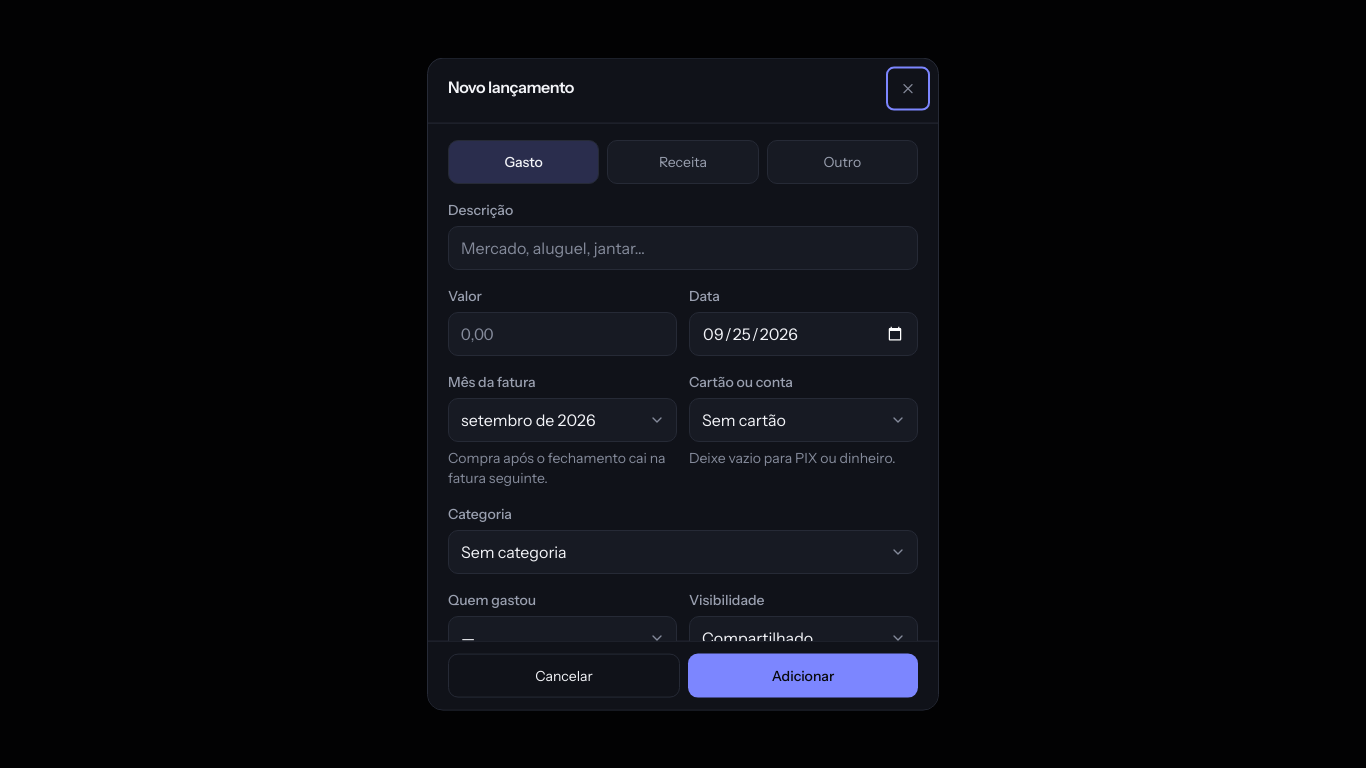
Test: formulário › palpite do Jev espera o toque em Usar
In the field labelled "Descrição": (683, 248) [448,226,918,270], type "Corrida pro aeroporto"
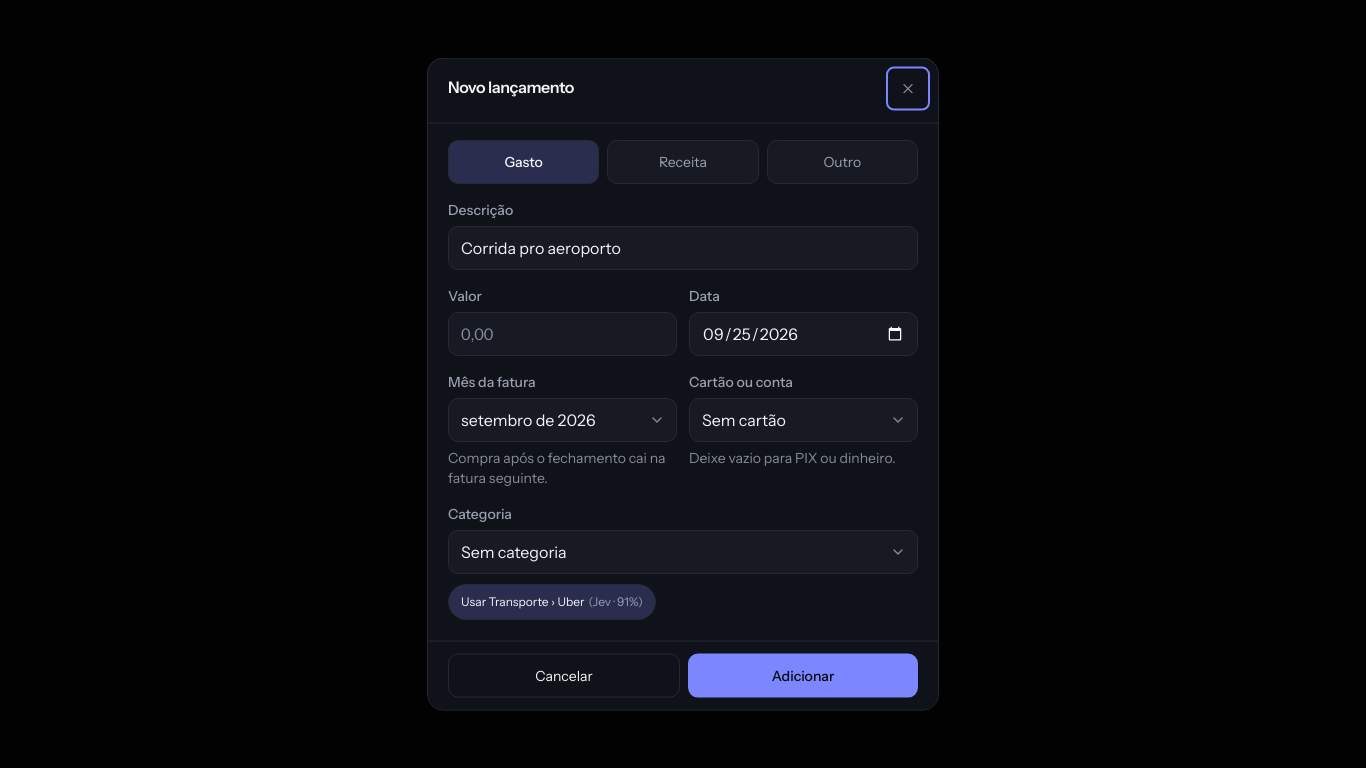
Expected: the dropdown labelled "Categoria" shows "Sem categoria", [448,530,918,574]
Click the button "Usar Transporte › Uber (Jev · 91%)": (552, 602) [448,584,656,620]
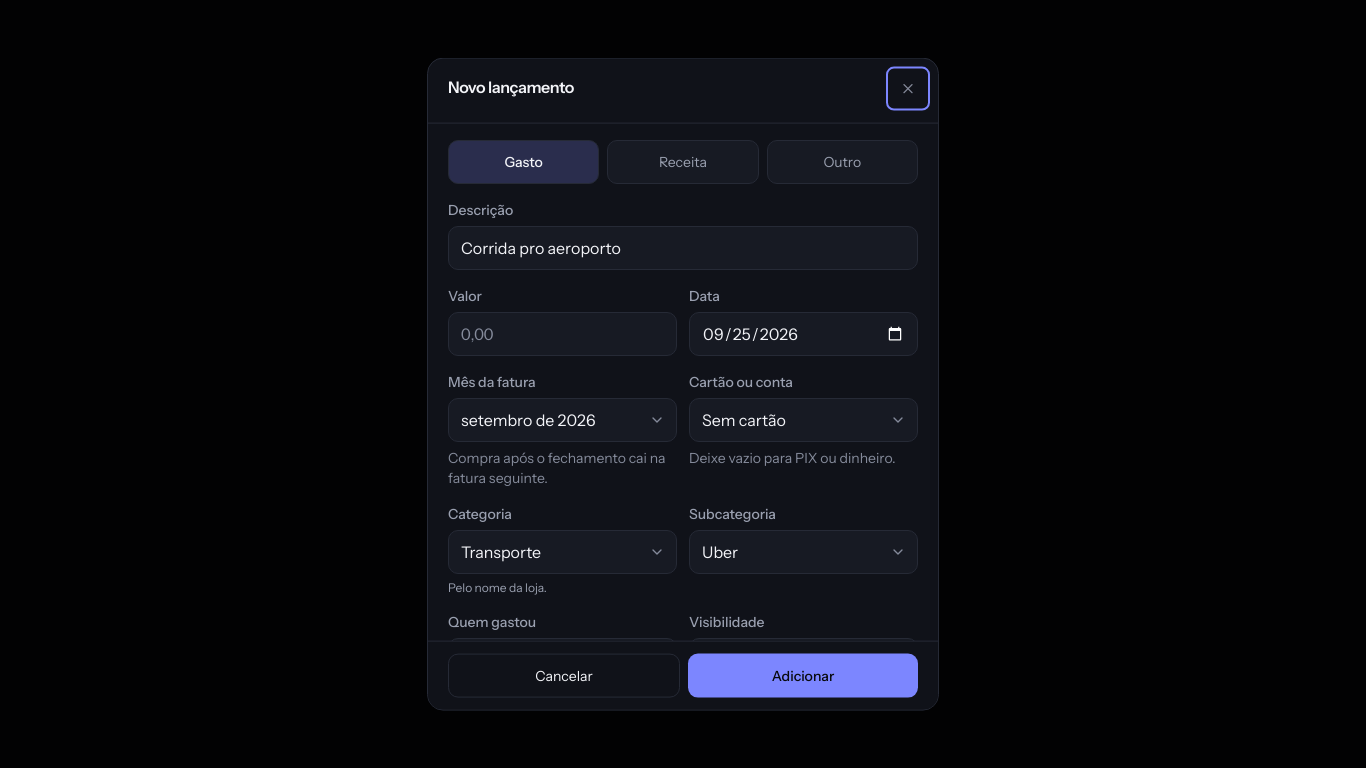
Now the dropdown labelled "Categoria" shows "Transporte", box [448,530,677,574]
Now the dropdown labelled "Subcategoria" shows "Uber", box [689,530,918,574]
